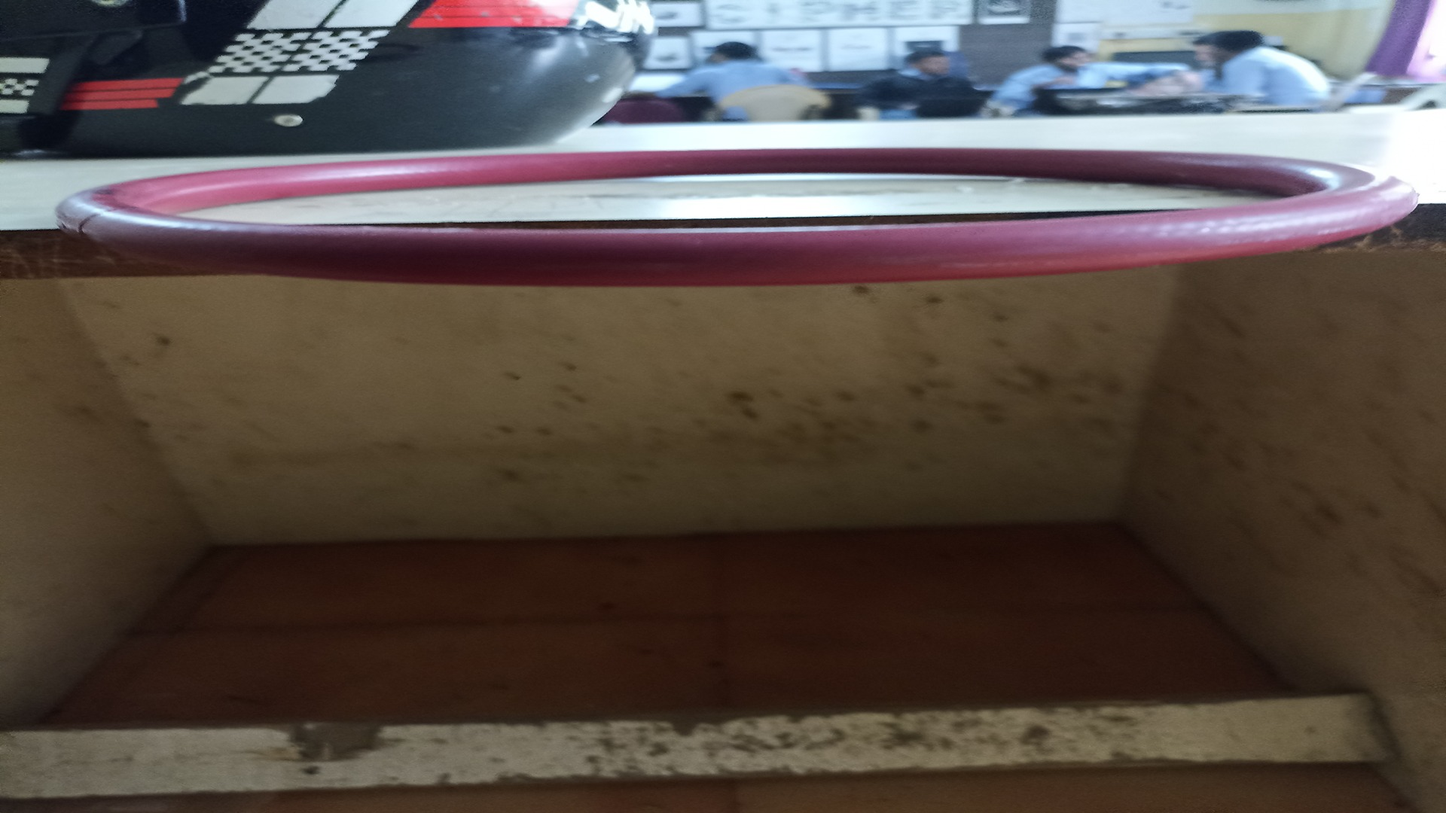Red ring: (59, 148, 1417, 277)
